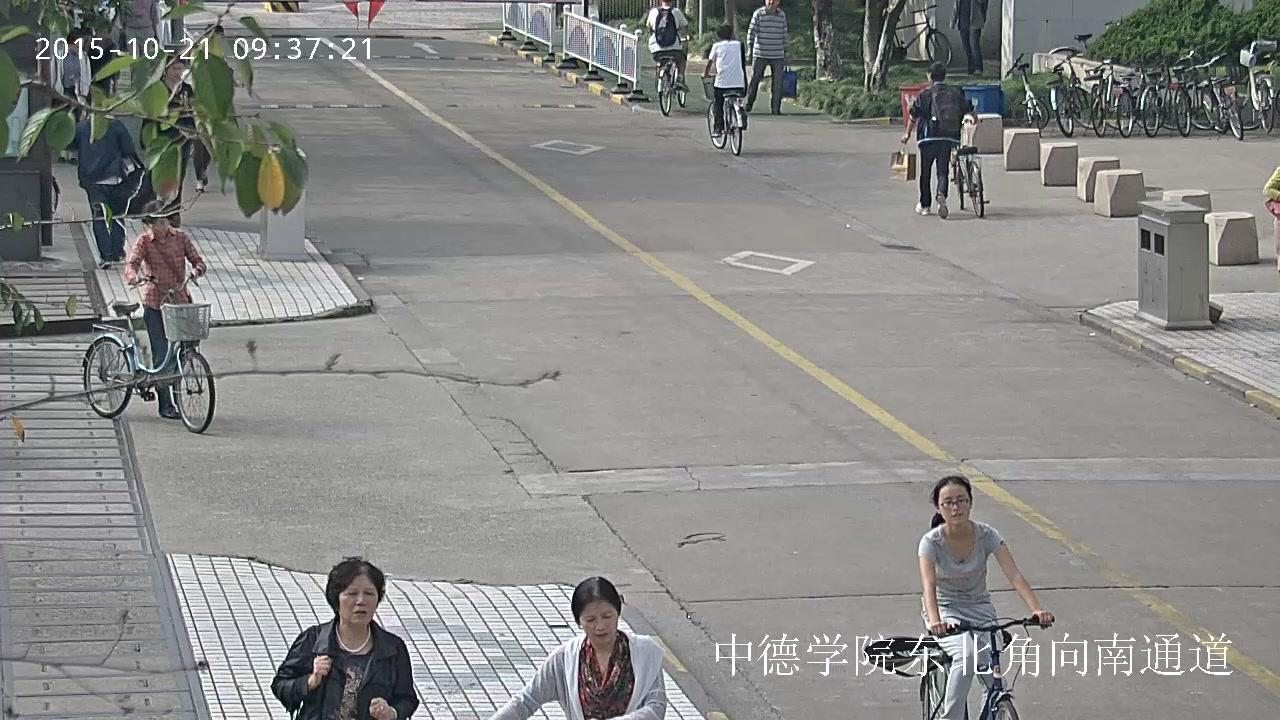face: (339, 576, 377, 625), (580, 600, 617, 645), (938, 483, 969, 524), (152, 218, 168, 236), (168, 63, 183, 79), (765, 0, 778, 10), (926, 72, 930, 81)
